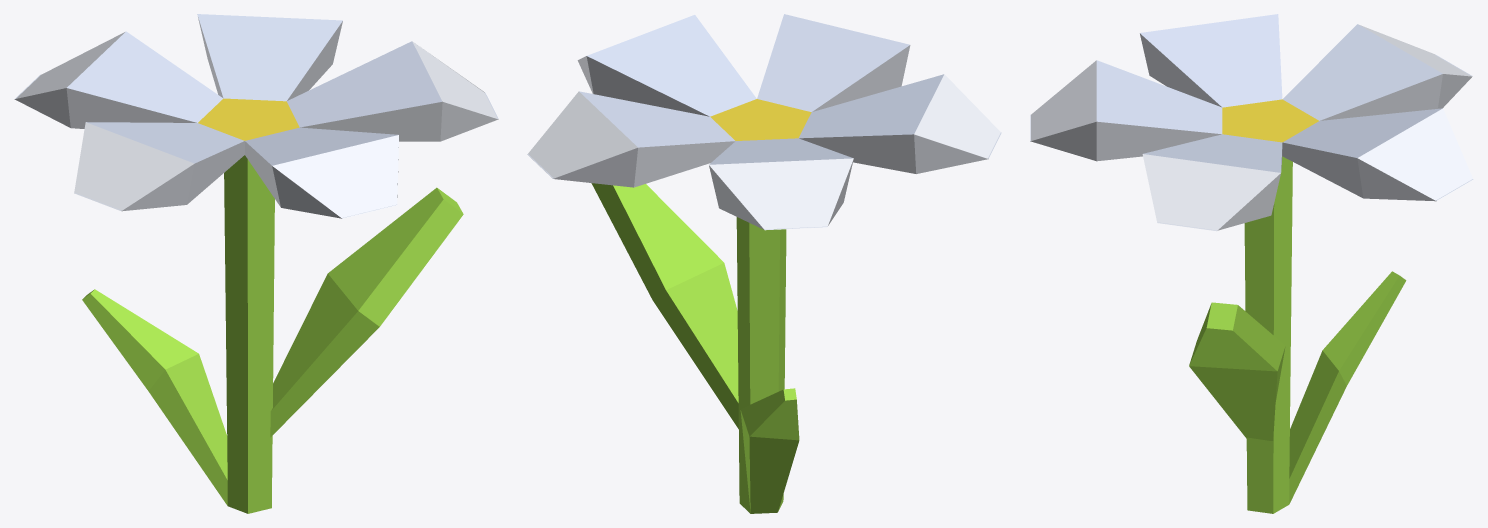
File: flower_white.fbx
3 views of the same model, side by side, from view 1: azimuth 30°, elevation 25°; view 2: azimuth 150°, elevation 25°; view 3: azimuth 270°, elevation 25° (orthographic).
Parts seen in each view (by area): view 1: flower_white; view 2: flower_white; view 3: flower_white.
Part boxes in pixels (x1,y1,x2,y2): flower_white: (14,14,498,513); flower_white: (527,14,1001,513); flower_white: (1030,14,1473,513).
Size of the model in its own units: 32.48 by 31.34 by 30.43.
